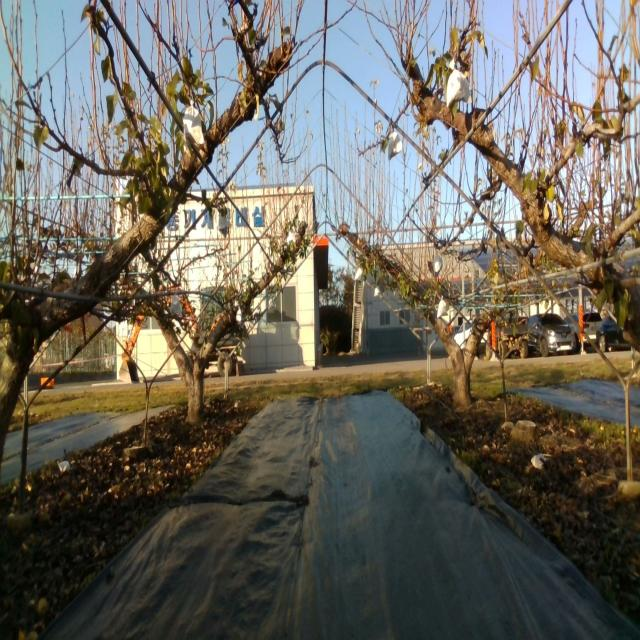pearbags: (446, 60, 472, 109), (182, 100, 204, 152), (388, 127, 402, 160), (171, 294, 183, 320), (216, 212, 227, 240), (436, 296, 448, 319)
